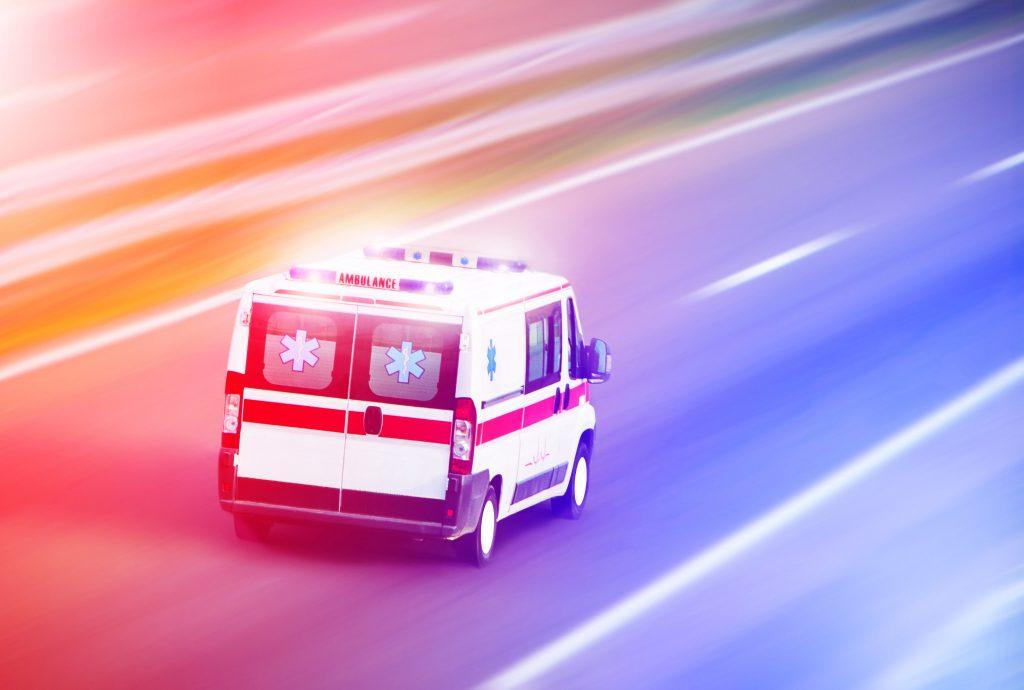ambulance_on: (218, 235, 612, 567)
